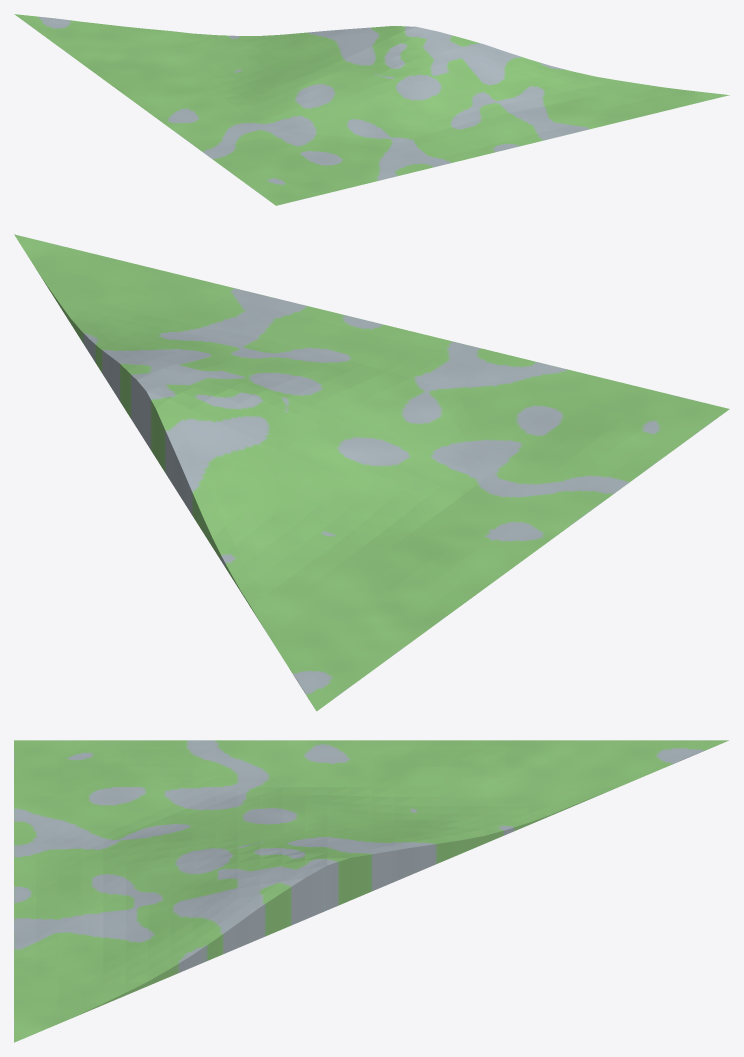
Rendered from Grass_RockyGround_02_NW.obj.
3 views of the same model, one above another, from view 1: azimuth 30°, elevation 25°; view 2: azimuth 150°, elevation 25°; view 3: azimuth 270°, elevation 25° (orthographic). The views are drawn at different scales.
Size of the model in its own units: 10 by 0.6915 by 10.
1 material, 1 textured.
